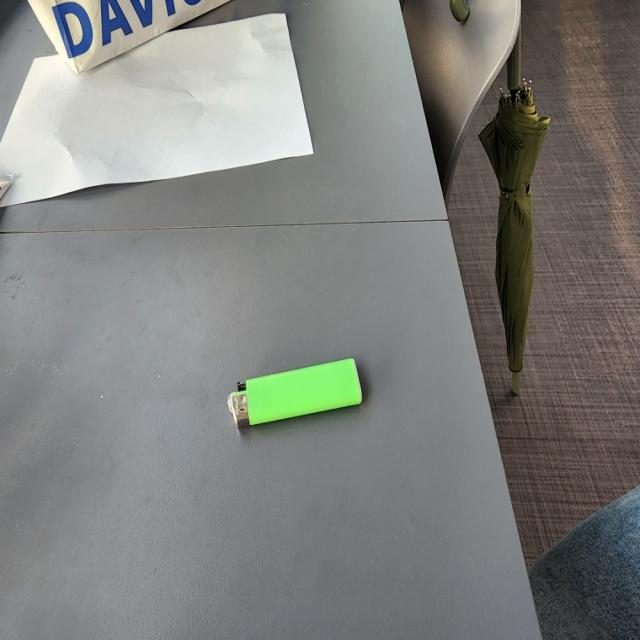lighter: (224, 349, 370, 440)
